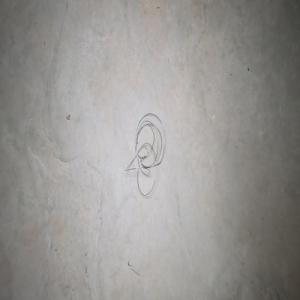Wire: (124, 112, 164, 195)
